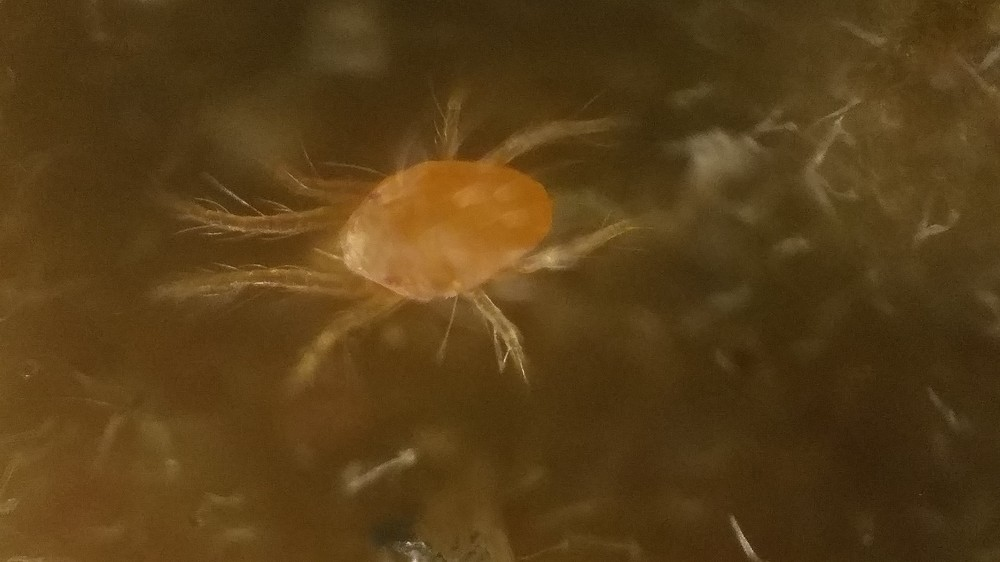Aracnido Rojo: (152, 78, 660, 422)
